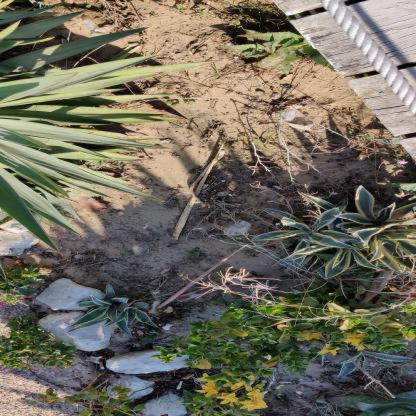Cigarette: (177, 381, 183, 390), (99, 363, 105, 370), (279, 381, 292, 383)
Plastic bag - wrapper: (273, 103, 329, 132), (77, 18, 110, 35), (224, 222, 251, 236), (86, 358, 99, 362)
